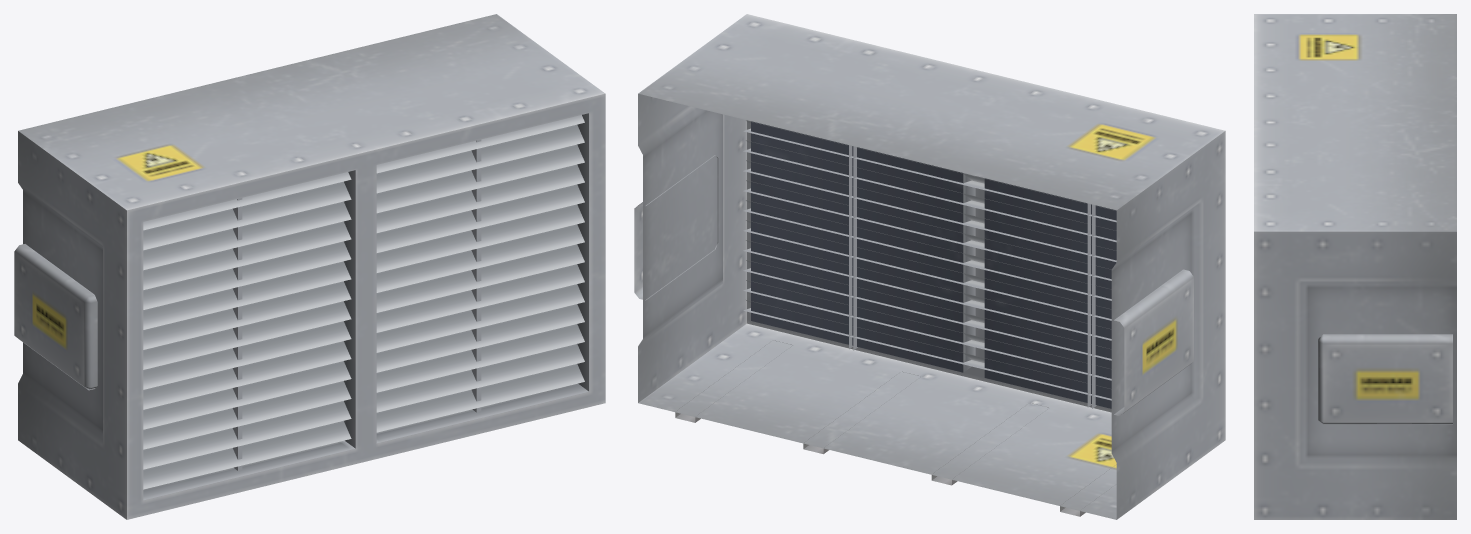
File: Air_cond_02.fbx
3 views of the same model, side by side, from view 1: azimuth 30°, elevation 25°; view 2: azimuth 150°, elevation 25°; view 3: azimuth 270°, elevation 25° (orthographic). The views are drawn at different scales.
Parts seen in each view (by area): view 1: air_conditioner_7_Mesh; view 2: air_conditioner_7_Mesh; view 3: air_conditioner_7_Mesh.
Boxes of the visible parts, left/top/right/bottom form: air_conditioner_7_Mesh: left=14, top=14, right=605, bottom=519; air_conditioner_7_Mesh: left=634, top=14, right=1225, bottom=519; air_conditioner_7_Mesh: left=1254, top=14, right=1456, bottom=519.
Size of the model in its own units: 129 by 79.61 by 49.75.
